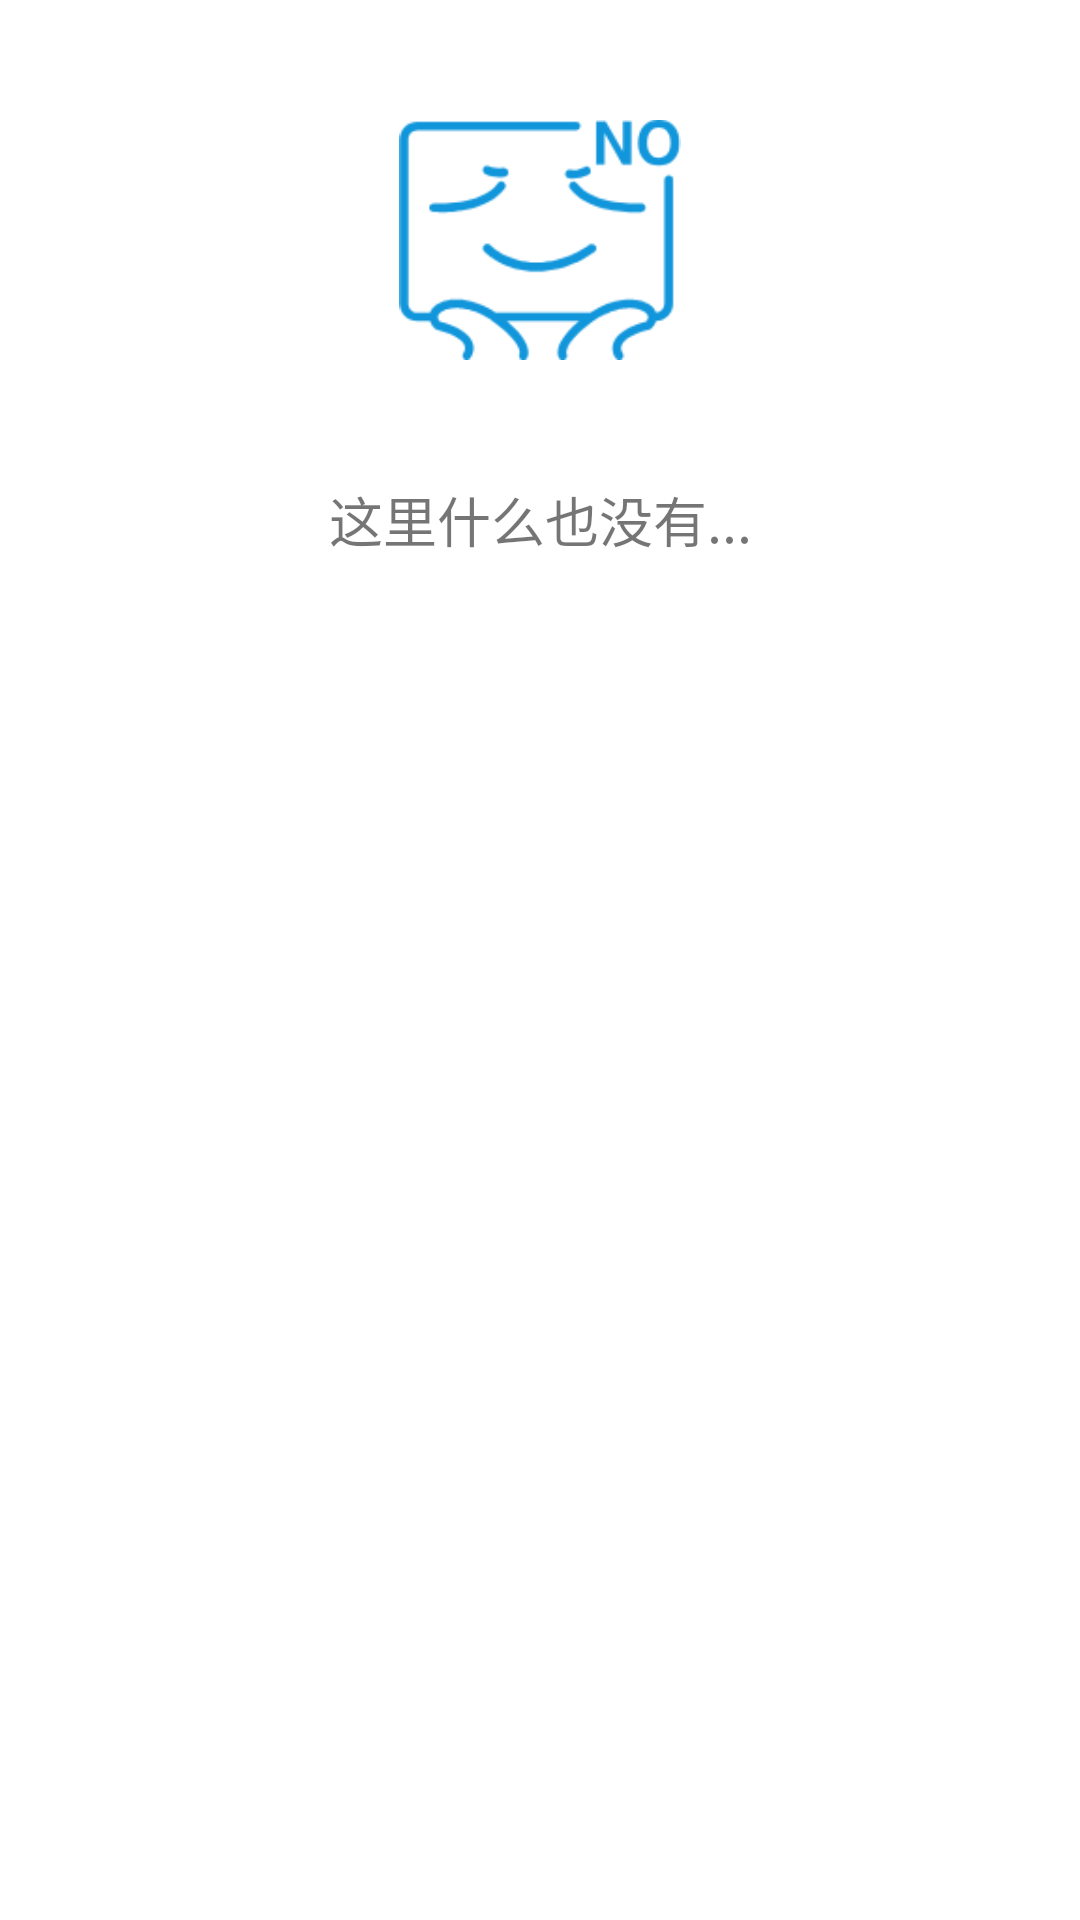

Screen size 1080×1920. Icon name, then its center in pixels as [x,y]:
empty: [540,240]
